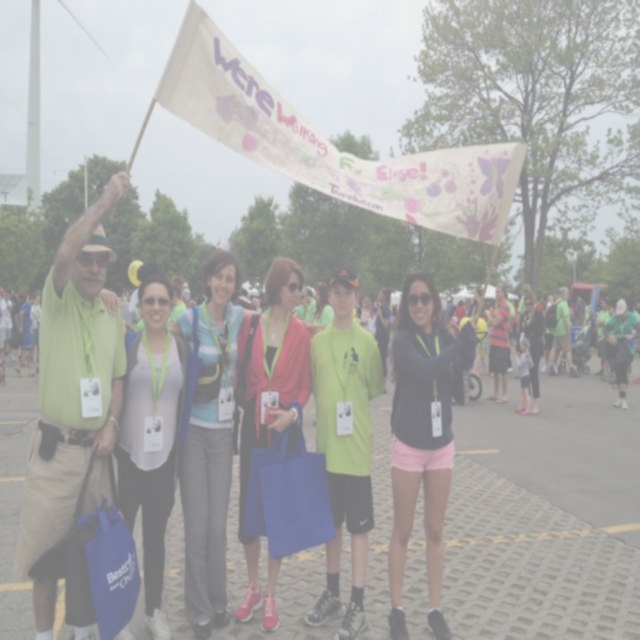pessoa: (10, 170, 134, 640), (164, 252, 264, 640), (386, 270, 480, 640), (111, 260, 194, 640), (232, 254, 313, 632), (304, 264, 384, 640), (444, 294, 640, 324), (602, 300, 640, 410), (515, 290, 546, 414), (544, 286, 582, 379), (484, 282, 511, 405), (114, 280, 208, 310), (608, 298, 638, 387), (12, 292, 38, 378), (540, 289, 562, 374), (374, 286, 391, 394), (106, 281, 141, 329), (513, 338, 534, 416), (594, 297, 612, 378), (601, 302, 618, 380), (353, 294, 394, 326), (470, 288, 484, 377), (0, 286, 46, 312), (12, 290, 28, 364), (166, 274, 187, 330), (516, 284, 538, 336), (312, 282, 335, 328), (504, 290, 516, 373), (479, 311, 492, 375), (30, 294, 41, 364), (292, 290, 313, 322), (0, 310, 11, 365), (238, 288, 263, 312), (4, 290, 13, 354), (304, 288, 318, 325), (234, 288, 254, 310), (294, 294, 310, 321), (574, 292, 586, 327), (359, 298, 372, 330), (262, 298, 272, 336), (366, 306, 377, 338), (446, 315, 460, 338), (444, 296, 454, 325), (456, 299, 466, 326), (178, 280, 190, 302), (566, 298, 574, 331), (536, 296, 547, 312), (353, 304, 362, 320), (464, 298, 471, 318), (546, 294, 554, 311), (391, 302, 396, 326), (255, 298, 262, 314), (588, 304, 594, 320), (390, 309, 394, 332), (585, 302, 591, 314), (393, 304, 398, 318), (633, 377, 640, 385)
